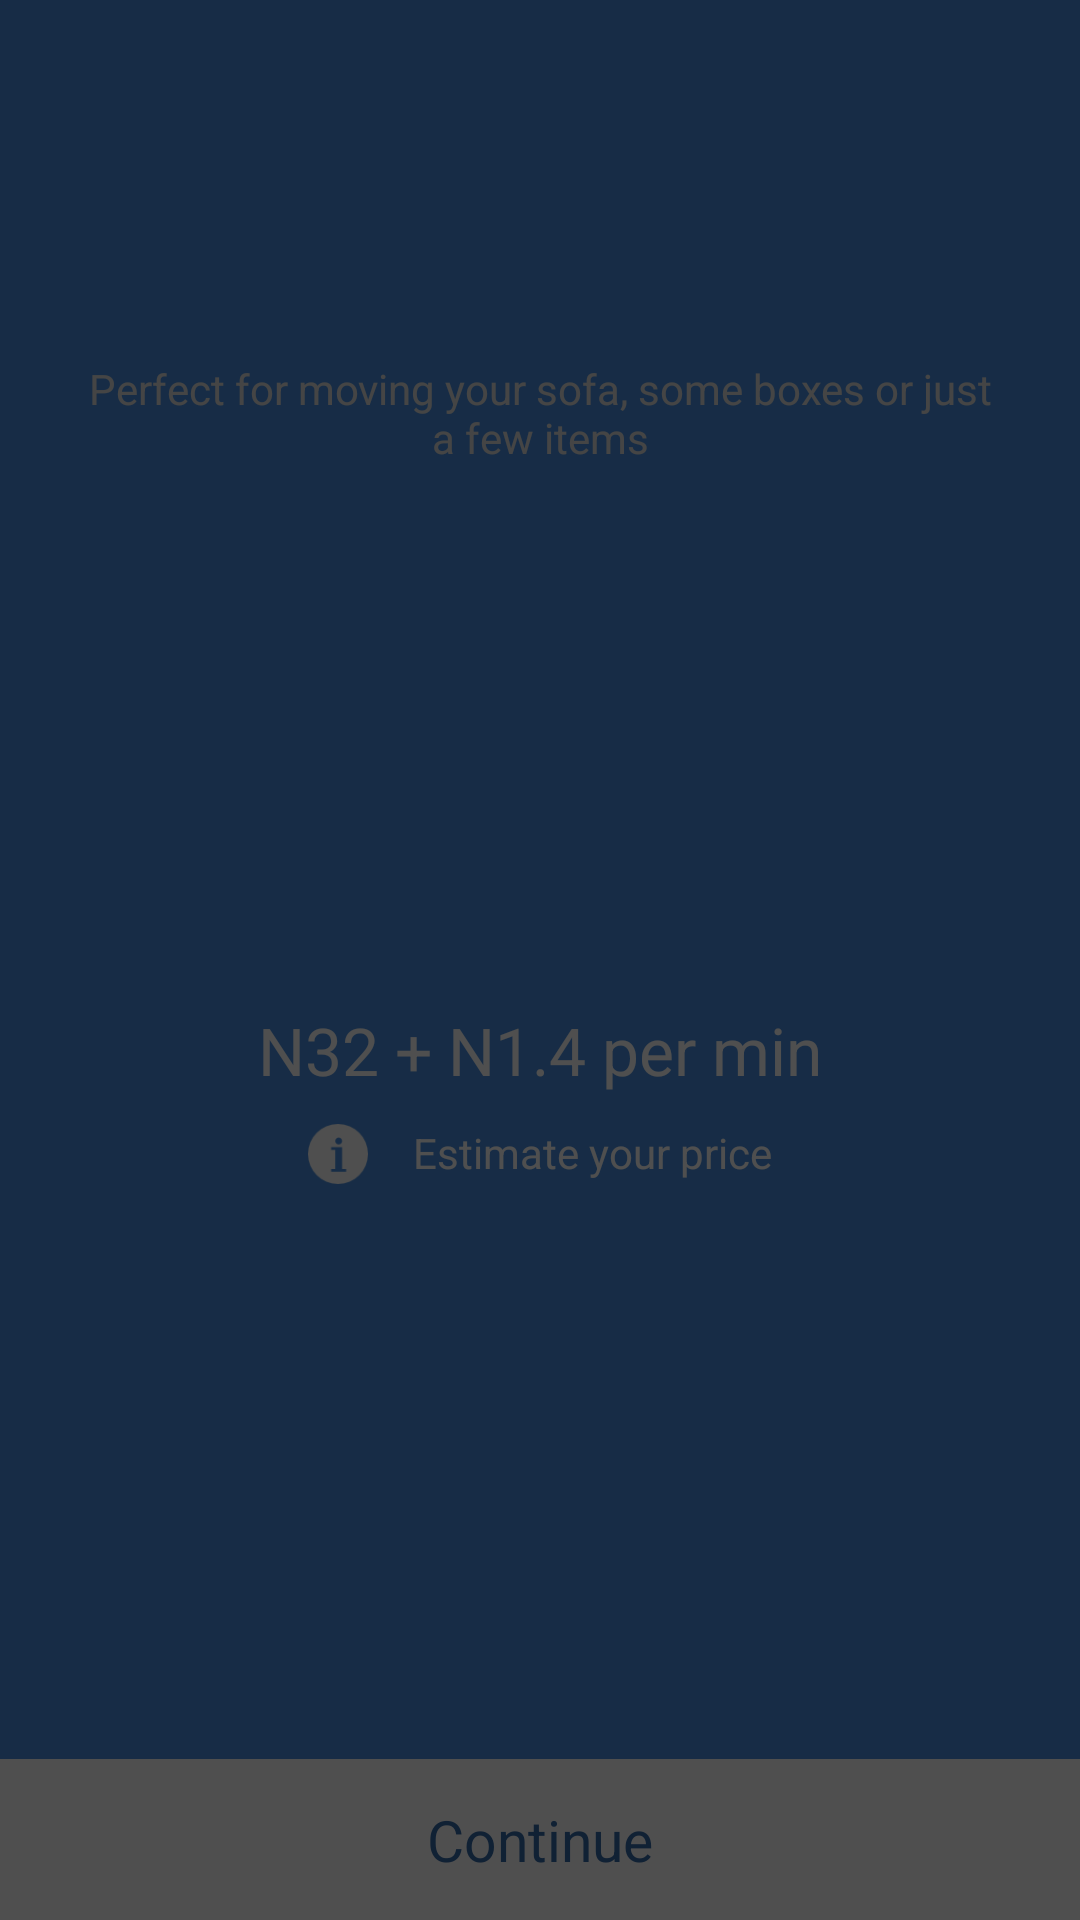

Screen size 1080px×1920px. Icon name, then its box in pixels as (left=x1, top=y1, right=x2, bottom=y2):
info circular: (left=308, top=1124, right=368, bottom=1184)
